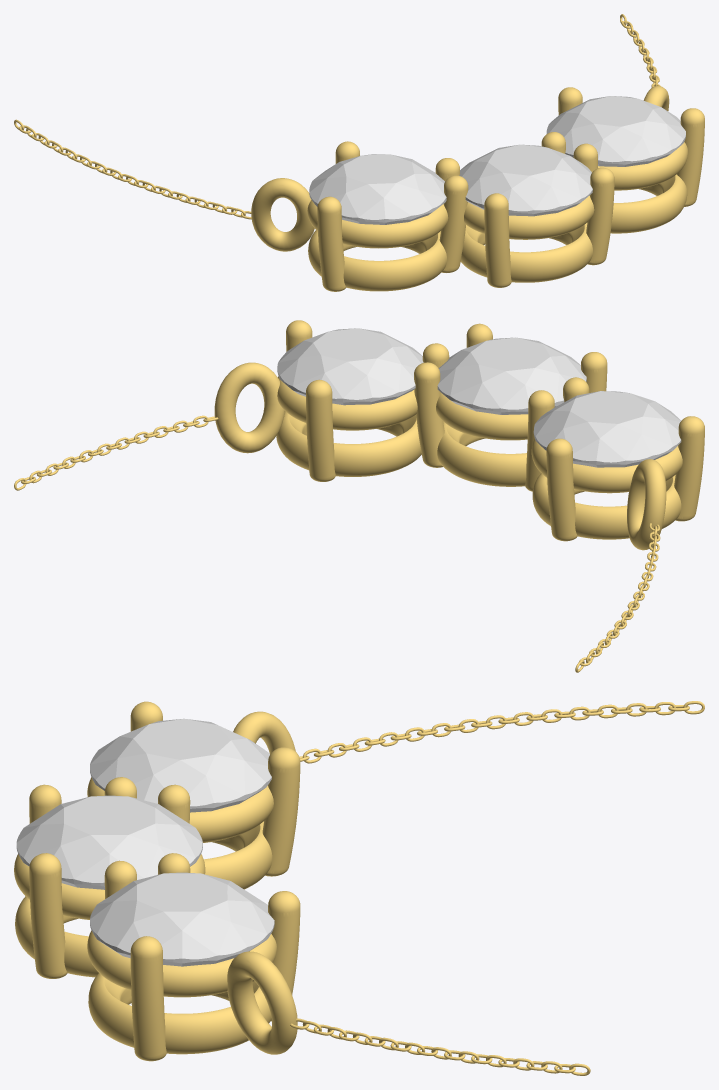
The model's file is MaryprongpendantYG_blender.glb.
3 renders of one model, top to bottom at view 1: azimuth 30°, elevation 25°; view 2: azimuth 150°, elevation 25°; view 3: azimuth 270°, elevation 25°, orthographic. The views are drawn at different scales.
Parts seen in each view (by area): view 1: Mary YG v2 for 3d model, Mary dia for 3d model, Mary dia for 3d model.002, Mary dia for 3d model.001; view 2: Mary YG v2 for 3d model, Mary dia for 3d model, Mary dia for 3d model.001, Mary dia for 3d model.002; view 3: Mary YG v2 for 3d model, Mary dia for 3d model.001, Mary dia for 3d model, Mary dia for 3d model.002.
Boxes of the visible parts, x1,y1,x2,y2 form: Mary YG v2 for 3d model: (14, 14, 704, 291); Mary dia for 3d model: (309, 154, 446, 224); Mary dia for 3d model.002: (459, 144, 592, 216); Mary dia for 3d model.001: (546, 96, 685, 166); Mary YG v2 for 3d model: (14, 320, 704, 672); Mary dia for 3d model: (533, 391, 681, 467); Mary dia for 3d model.001: (277, 328, 423, 405); Mary dia for 3d model.002: (437, 337, 586, 414); Mary YG v2 for 3d model: (14, 701, 704, 1075); Mary dia for 3d model.001: (90, 872, 274, 966); Mary dia for 3d model: (90, 718, 271, 812); Mary dia for 3d model.002: (16, 795, 202, 889).
Bounding box in the file's own units: 28.17 × 4.62 × 22.45.
